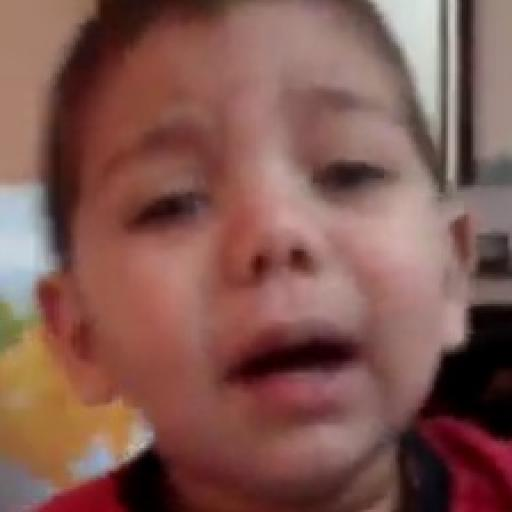Autism: (38, 0, 491, 487)
